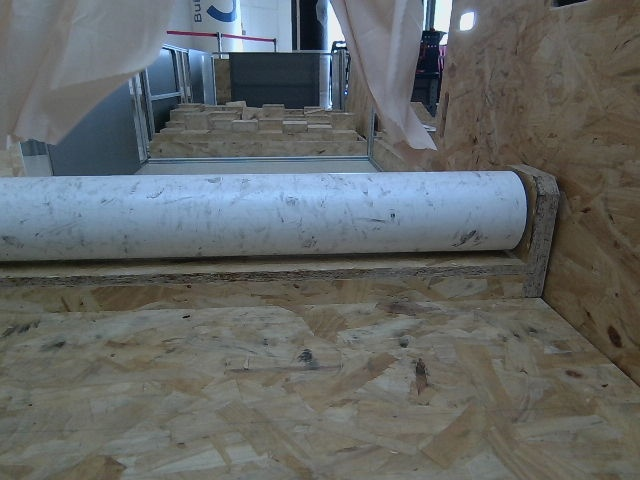curtain: (0, 0, 448, 154)
